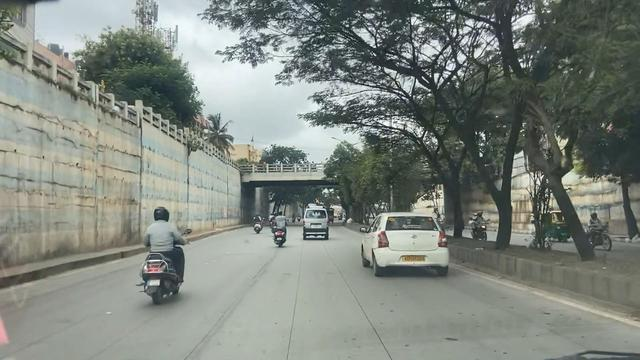LMV: (340, 215, 452, 277), (140, 207, 194, 302)
